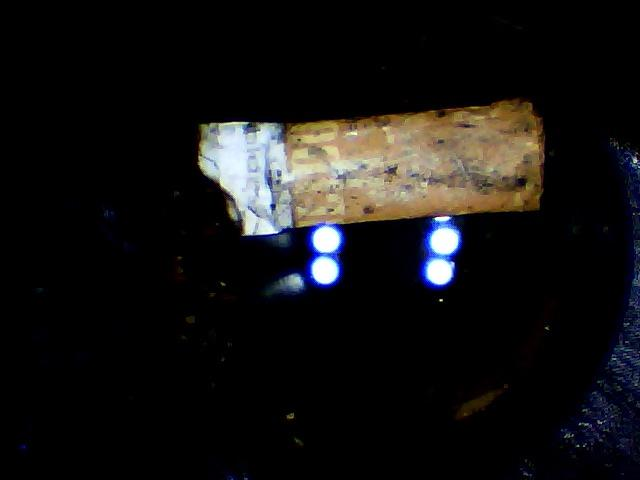megot: (184, 87, 561, 247)
